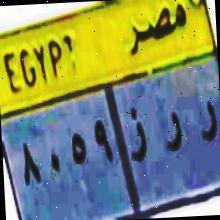0: (44, 140, 64, 186)
5: (65, 123, 89, 179)
8: (16, 128, 42, 195)
9: (91, 114, 115, 172)
raa: (158, 95, 188, 159), (197, 99, 219, 157)
zay: (124, 100, 148, 174)
